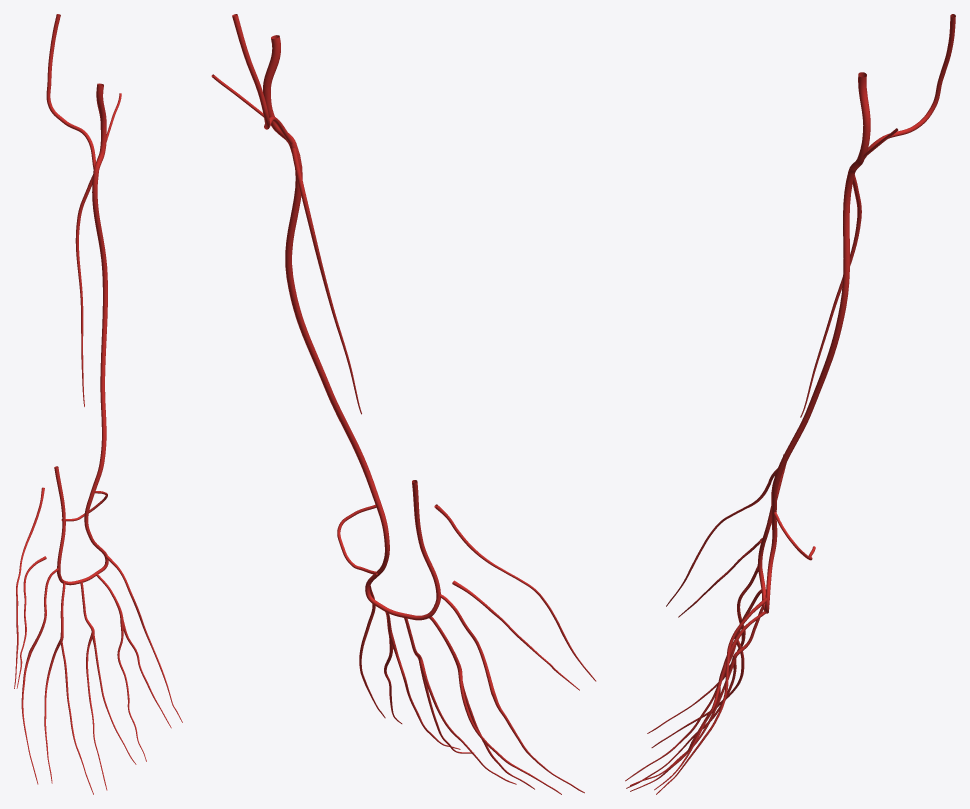
The model's file is circulatorio-ulnar-artery-r.glb.
3 views of the same model, side by side, from view 1: azimuth 30°, elevation 25°; view 2: azimuth 150°, elevation 25°; view 3: azimuth 270°, elevation 25° (orthographic). The views are drawn at different scales.
Parts seen in each view (by area): view 1: Proper palmar digital arteries.r, Ulnar artery.r, Superficial palmar arch.r, Common palmar digital arteries.r, Recurrent interosseous artery.r, Posterior interosseous artery.r; view 2: Proper palmar digital arteries.r, Ulnar artery.r, Superficial palmar arch.r, Posterior interosseous artery.r, Common palmar digital arteries.r, Recurrent interosseous artery.r; view 3: Proper palmar digital arteries.r, Ulnar artery.r, Superficial palmar arch.r, Recurrent interosseous artery.r, Common palmar digital arteries.r, Posterior interosseous artery.r.
Part boxes in pixels (x1,y1,x2,y2): Proper palmar digital arteries.r: (14,487,182,794); Ulnar artery.r: (91,83,107,492); Superficial palmar arch.r: (54,466,108,585); Common palmar digital arteries.r: (29,568,123,652); Recurrent interosseous artery.r: (46,14,95,168); Posterior interosseous artery.r: (75,186,91,406); Proper palmar digital arteries.r: (359,504,596,794); Ulnar artery.r: (263,35,381,506); Superficial palmar arch.r: (365,480,440,620); Posterior interosseous artery.r: (294,165,361,414); Common palmar digital arteries.r: (385,594,495,694); Recurrent interosseous artery.r: (232,14,293,144); Proper palmar digital arteries.r: (625,468,777,794); Ulnar artery.r: (771,72,870,513); Superficial palmar arch.r: (757,454,786,613); Recurrent interosseous artery.r: (865,14,955,158); Common palmar digital arteries.r: (724,564,765,661); Posterior interosseous artery.r: (800,186,861,417).
Size of the model in its own units: 0.1298 by 0.4103 by 0.1491.
